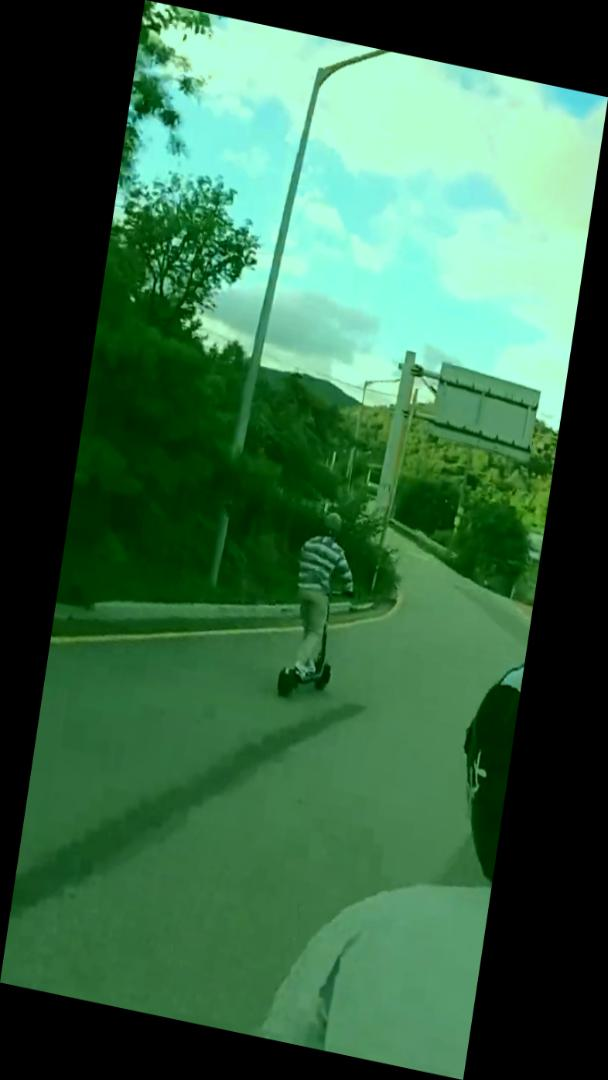helmet: (269, 501, 366, 711)
